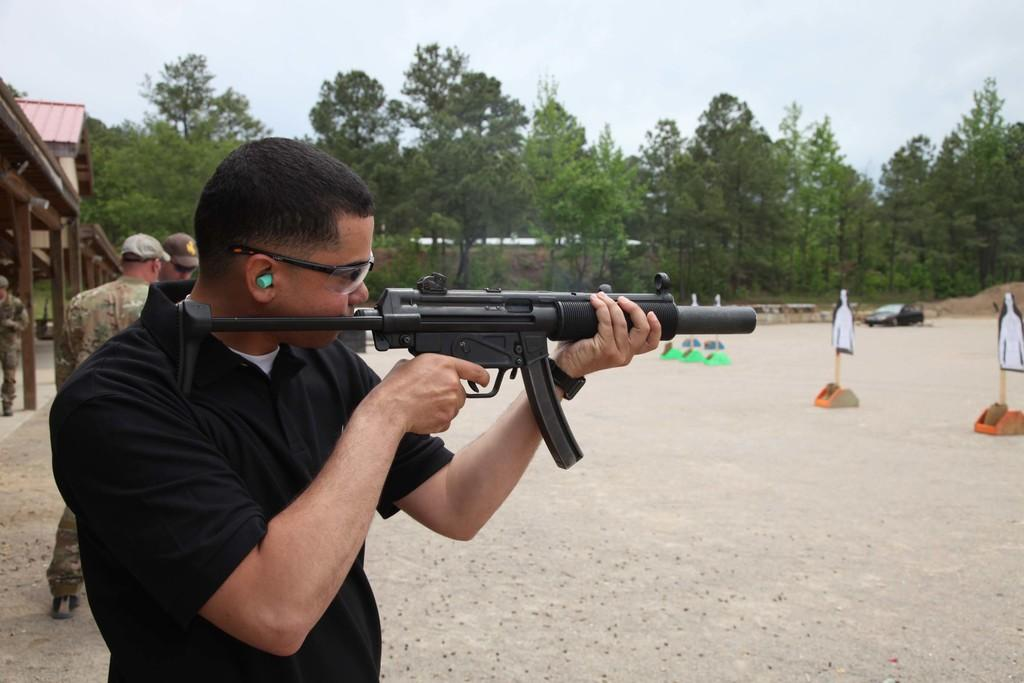Shotgun: (169, 267, 755, 470)
